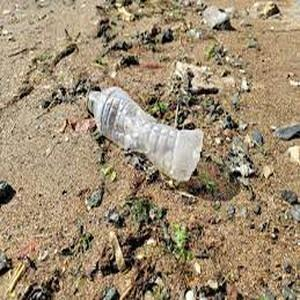Plastic: (84, 85, 204, 184)
